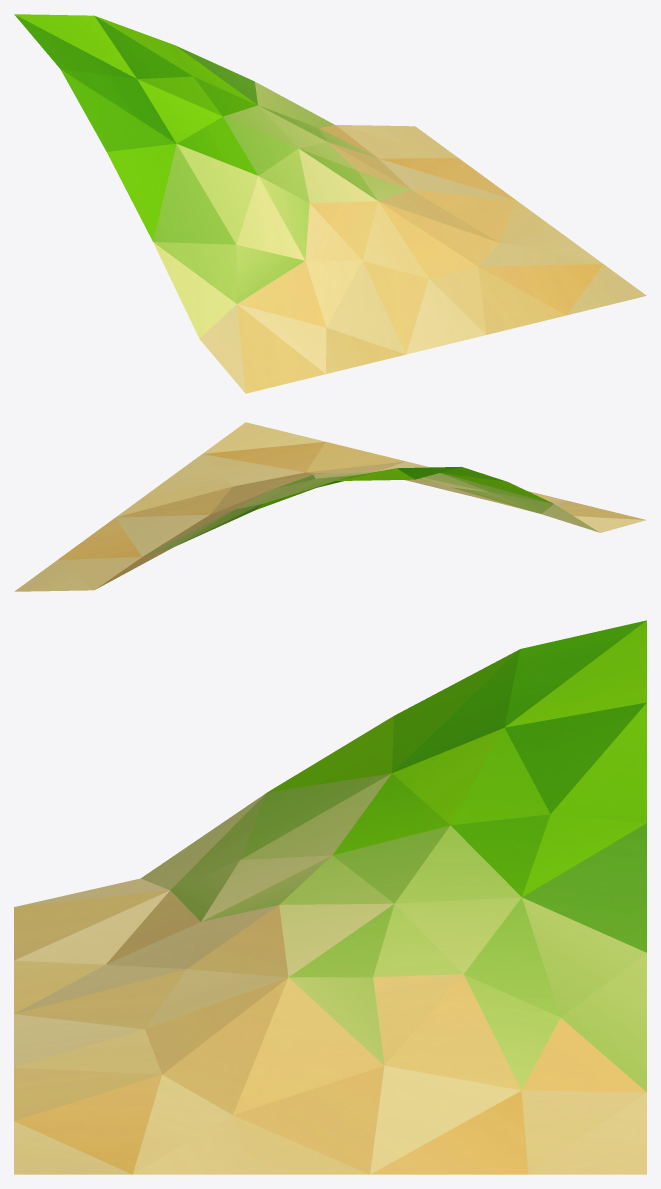
File: GL-Terrain-part-12-LOD2.fbx
3 views of the same model, one above another, from view 1: azimuth 30°, elevation 25°; view 2: azimuth 150°, elevation 25°; view 3: azimuth 270°, elevation 25° (orthographic). The views are drawn at different scales.
Parts seen in each view (by area): view 1: GL_Terrain_part_12; view 2: GL_Terrain_part_12; view 3: GL_Terrain_part_12.
Boxes of the visible parts, x1,y1,x2,y2 form: GL_Terrain_part_12: (14, 14, 646, 393); GL_Terrain_part_12: (14, 422, 646, 591); GL_Terrain_part_12: (14, 620, 646, 1174).
Bounding box in the file's own units: 6 × 3 × 6.
